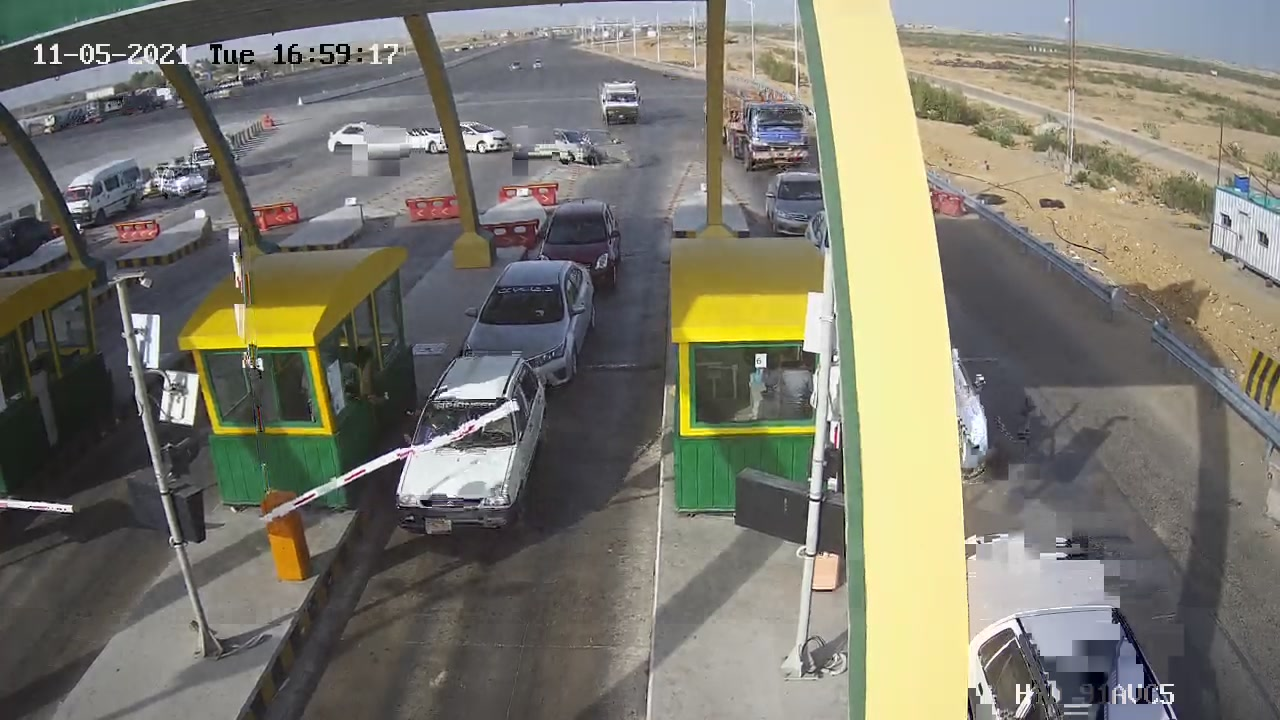F1: (381, 340, 567, 550), (445, 246, 611, 406), (526, 189, 637, 302)
